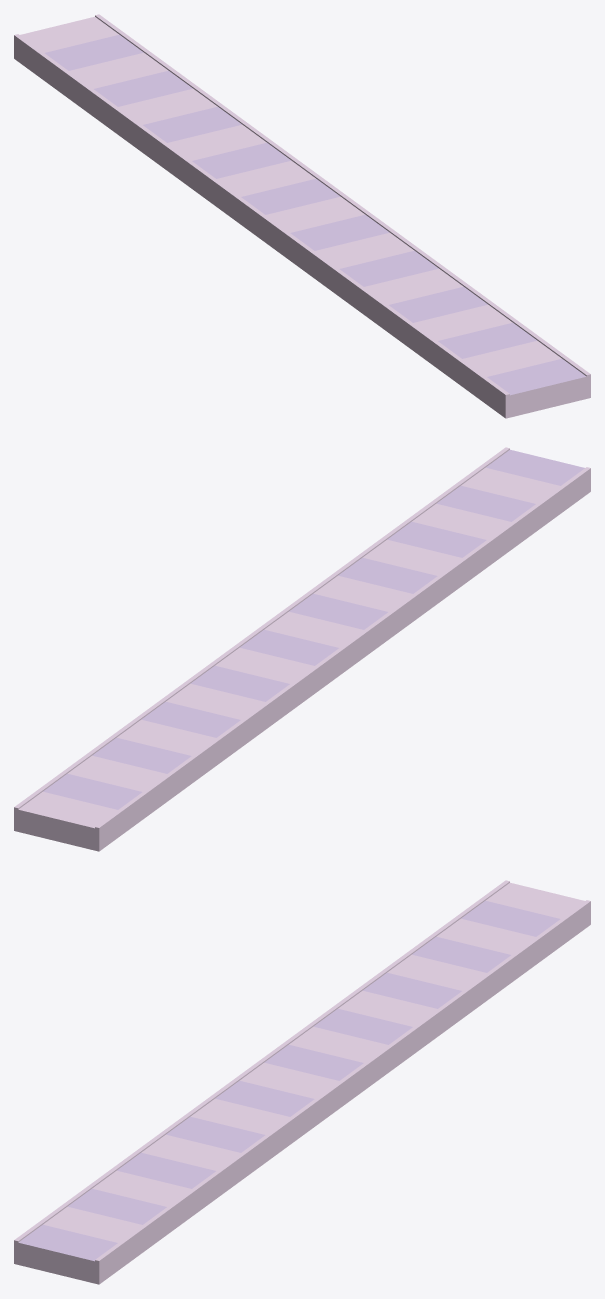
The model's file is road_light purple_10.fbx.
3 renders of one model, top to bottom at view 1: azimuth 30°, elevation 25°; view 2: azimuth 150°, elevation 25°; view 3: azimuth 330°, elevation 25°, orthographic.
Parts seen in each view (by area): view 1: road_light purple_10; view 2: road_light purple_10; view 3: road_light purple_10.
Part boxes in pixels (x1,y1,x2,y2): road_light purple_10: [14, 14, 590, 418]; road_light purple_10: [14, 447, 590, 851]; road_light purple_10: [14, 880, 590, 1284].
Size of the model in its own units: 2 by 0.5304 by 20.
